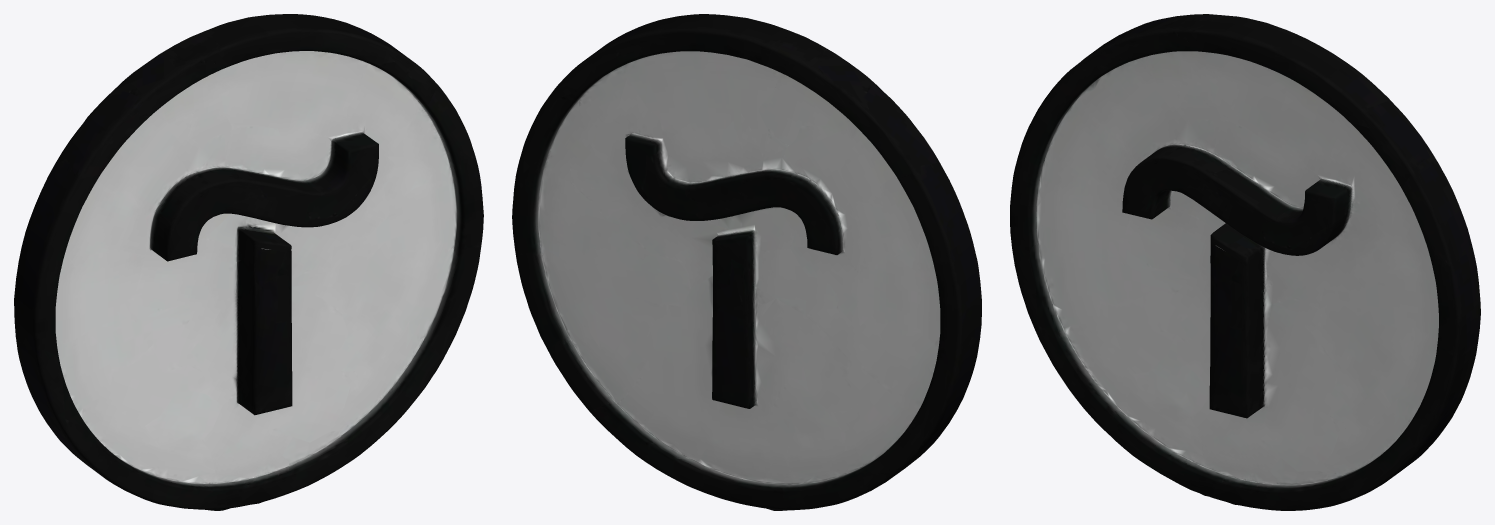
The model's file is tool-tilda.glb.
3 views of the same model, side by side, from view 1: azimuth 30°, elevation 25°; view 2: azimuth 150°, elevation 25°; view 3: azimuth 330°, elevation 25° (orthographic).
Visible parts, largest first — view 1: tripo_node_02d60bfe-29be-41e4-9139-fa0c9005303f; view 2: tripo_node_02d60bfe-29be-41e4-9139-fa0c9005303f; view 3: tripo_node_02d60bfe-29be-41e4-9139-fa0c9005303f.
Boxes of the visible parts, x1,y1,x2,y2 form: tripo_node_02d60bfe-29be-41e4-9139-fa0c9005303f: (14,14,483,510); tripo_node_02d60bfe-29be-41e4-9139-fa0c9005303f: (512,14,981,510); tripo_node_02d60bfe-29be-41e4-9139-fa0c9005303f: (1010,14,1480,510).
Size of the model in its own units: 0.9771 by 0.9771 by 0.1285.
1 material, 1 textured.
